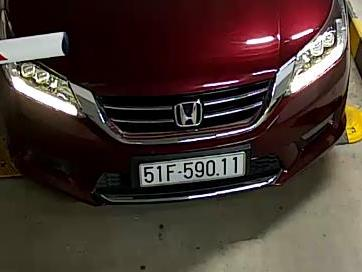car: (138, 151, 246, 188)
